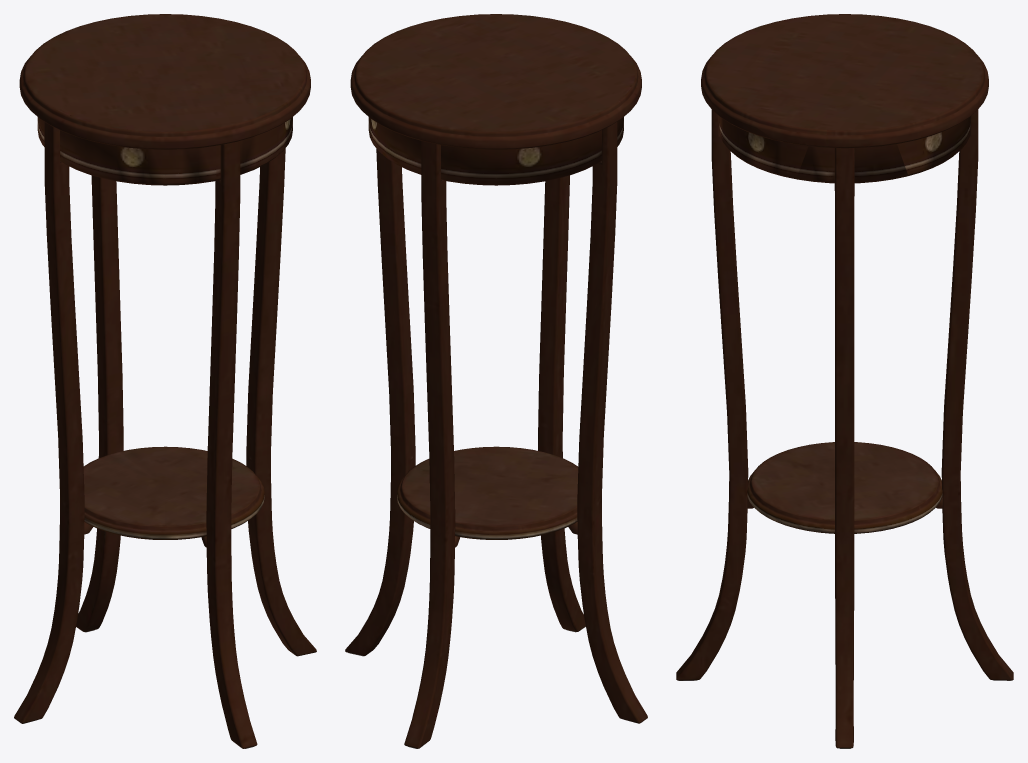
The model's file is side_table_tall_01.glb.
3 renders of one model, left to right at view 1: azimuth 30°, elevation 25°; view 2: azimuth 150°, elevation 25°; view 3: azimuth 270°, elevation 25°, orthographic.
Visible parts, largest first — view 1: side_table_tall_01; view 2: side_table_tall_01; view 3: side_table_tall_01.
Boxes of the visible parts, left/top/right/bottom form: side_table_tall_01: left=14, top=14, right=316, bottom=748; side_table_tall_01: left=345, top=14, right=647, bottom=748; side_table_tall_01: left=676, top=14, right=1013, bottom=748.
Bounding box in the file's own units: 0.384 × 0.7612 × 0.384.
Materials: 1 (1 with a texture image).
